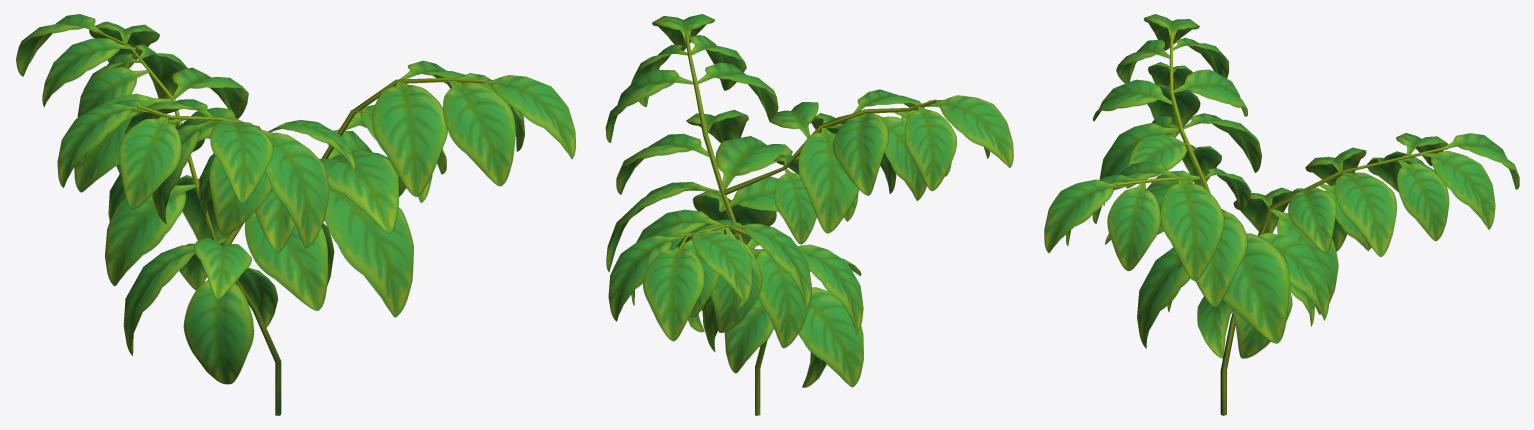
The model's file is large_plant.glb.
3 views of the same model, side by side, from view 1: azimuth 30°, elevation 25°; view 2: azimuth 150°, elevation 25°; view 3: azimuth 270°, elevation 25° (orthographic). The views are drawn at different scales.
Parts seen in each view (by area): view 1: Large_Leafy_plant; view 2: Large_Leafy_plant; view 3: Large_Leafy_plant.
Part boxes in pixels (<box>): Large_Leafy_plant: <box>16,14,575,415</box>; Large_Leafy_plant: <box>605,14,1013,415</box>; Large_Leafy_plant: <box>1044,14,1519,415</box>.
Size of the model in its own units: 0.076 by 0.0603 by 0.0824.
1 material, 1 textured.
